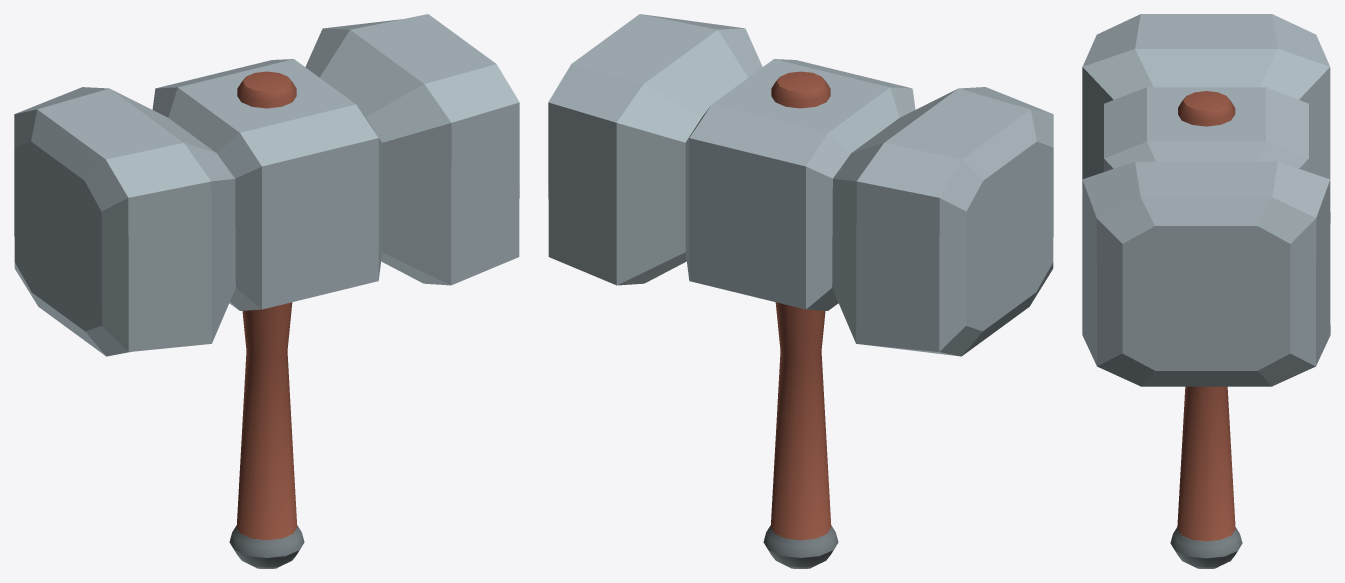
The model's file is hammer.gltf.
3 renders of one model, left to right at view 1: azimuth 30°, elevation 25°; view 2: azimuth 150°, elevation 25°; view 3: azimuth 270°, elevation 25°, orthographic. The views are drawn at different scales.
Parts seen in each view (by area): view 1: Cube4163, Cube4163_1, Cube4163_2; view 2: Cube4163, Cube4163_1, Cube4163_2; view 3: Cube4163, Cube4163_1, Cube4163_2.
Boxes of the visible parts, x1,y1,x2,y2 form: Cube4163: (14,14,519,356); Cube4163_1: (236,71,297,540); Cube4163_2: (229,525,304,568); Cube4163: (548,14,1053,356); Cube4163_1: (770,71,831,540); Cube4163_2: (763,525,838,568); Cube4163: (1082,14,1330,386); Cube4163_1: (1177,91,1235,541); Cube4163_2: (1170,527,1242,568).
Size of the model in its own units: 0.7876 by 0.8701 by 0.4209.
